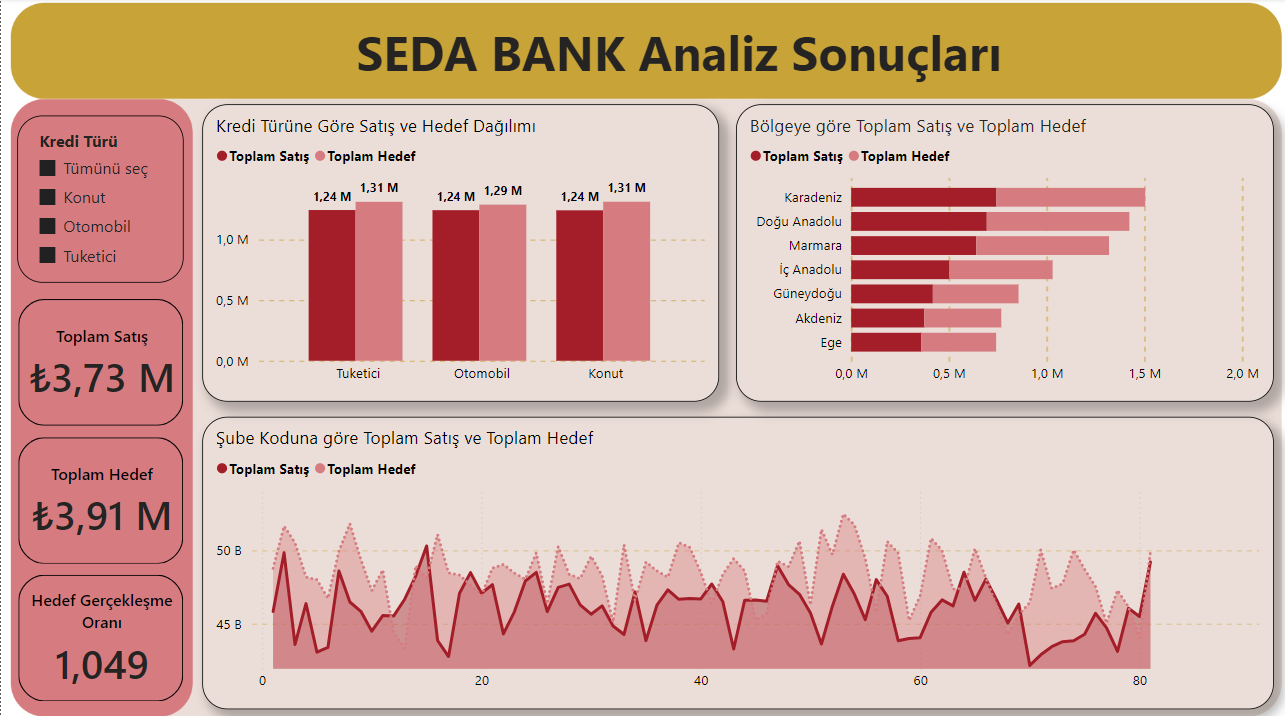

The page's visual inventory and layout, read from the dashboard file:
{"tool":"powerbi","page":{"name":"Genel Bakış","canvas":[1280,720],"ordinal":0},"visuals":[{"type":"image","box":[5.5,0,1274.8,720.4],"z":0},{"type":"barChart","title":"Bölgeye göre Toplam Satış ve Toplam Hedef","fields":{"Category":["Şubeler.Bolgesi"],"Y":["Krediler.Satış","Krediler.Hedef"]},"box":[731.4,105.7,535.2,296.4],"z":1000},{"type":"cardVisual","fields":{"Data":["Krediler.Satış","Krediler.Hedef","Krediler.Hedef Gerçekleşme Oranı"]},"box":[12.4,294.8,174.2,413],"z":2000},{"type":"slicer","fields":{"Values":["Krediler.Kategori"]},"box":[16.2,116.9,165.4,166.7],"z":3000},{"type":"areaChart","title":"Şube Koduna göre Toplam Satış ve Toplam Hedef","fields":{"Category":["Şubeler.Sube Kodu"],"Y":["Krediler.Satış","Krediler.Hedef"]},"box":[200.3,417.2,1066.2,290.9],"z":4000},{"type":"clusteredColumnChart","title":"Kredi Türüne Göre Satış ve Hedef Dağılımı","fields":{"Y":["Krediler.Satış","Krediler.Hedef"],"Category":["Krediler.Kategori"]},"box":[200.3,105.7,514.6,296.4],"z":5000},{"type":"textbox","box":[336.2,16.5,677.9,75.5],"z":6000}]}

Visuals, with their boxes in screenshot pixels (x1, y1, x2, y2), scaled from the page's 1280x720 canvas onto the 1285x716 screenshot:
image: 6,0,1284,715
"Bölgeye göre Toplam Satış ve Toplam Hedef" barChart: 734,105,1272,400
cardVisual - Krediler.Satış x Krediler.Hedef: 12,293,187,704
slicer - Krediler.Kategori: 16,116,182,282
"Şube Koduna göre Toplam Satış ve Toplam Hedef" areaChart: 201,415,1271,704
"Kredi Türüne Göre Satış ve Hedef Dağılımı" clusteredColumnChart: 201,105,718,400
textbox: 338,16,1018,91
